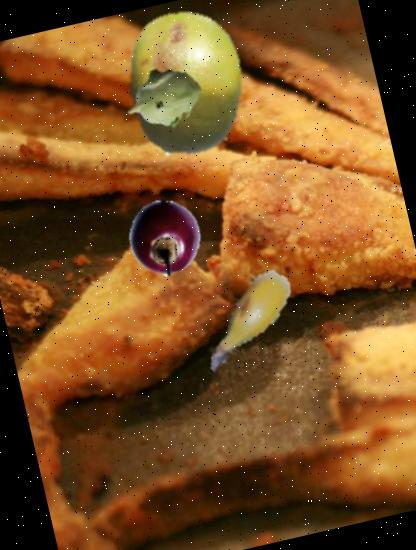Banana: (174, 249, 316, 391)
Kohlrabi: (116, 51, 211, 146)
Pomelo: (96, 0, 275, 173)
Tamarillo: (119, 192, 210, 284)
